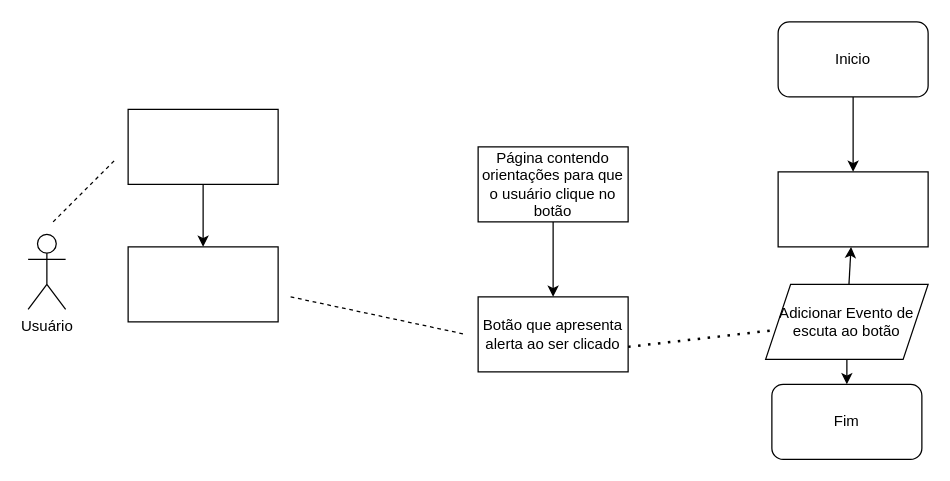
Some shapes in this 950 by 481 pixel diagram are drawn without their labels. The box of each missing label's shape, as (x1, y1, x2, y2) in pixels:
Clica no botão: (127, 246, 278, 322)
Entrar no programa: (127, 108, 278, 184)
Função onde irá apresentar alerta: (777, 171, 928, 247)
